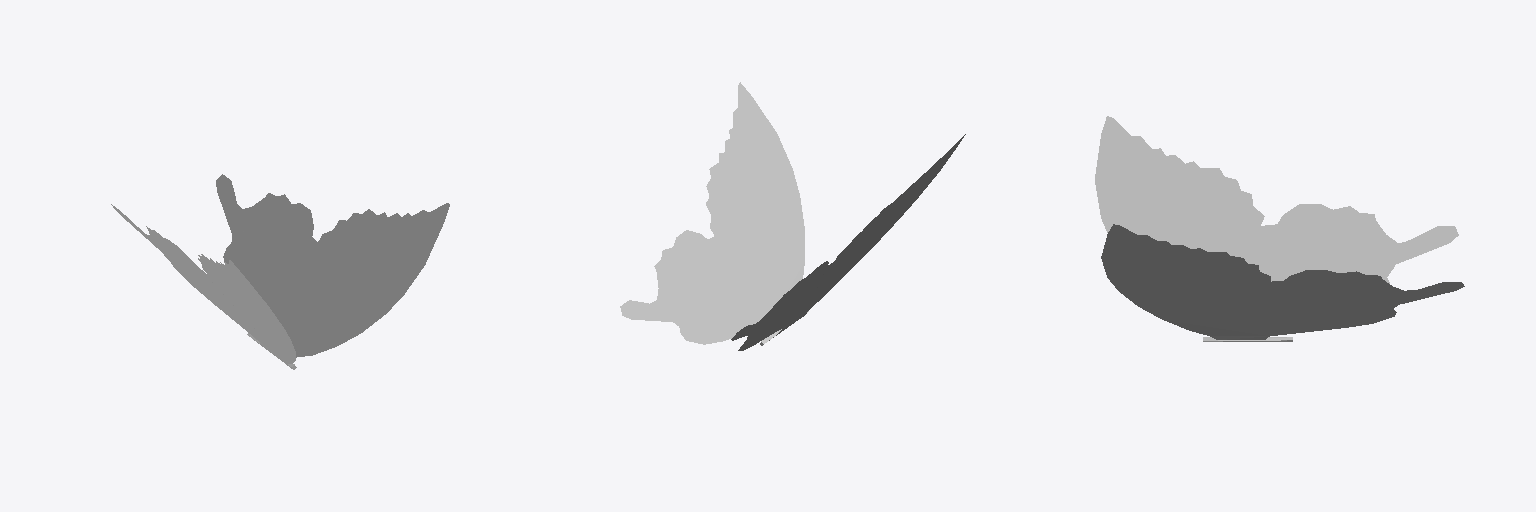
The model's file is mob_28.obj.
3 renders of one model, left to right at view 1: azimuth 30°, elevation 25°; view 2: azimuth 150°, elevation 25°; view 3: azimuth 270°, elevation 25°, orthographic.
Visible parts, largest first — view 1: Cube; view 2: Cube; view 3: Cube.
Boxes of the visible parts, x1,y1,x2,y2 form: Cube: [111, 174, 449, 369]; Cube: [620, 82, 965, 350]; Cube: [1095, 116, 1464, 341].
Bounding box in the file's own units: 1.36 × 1 × 1.96.